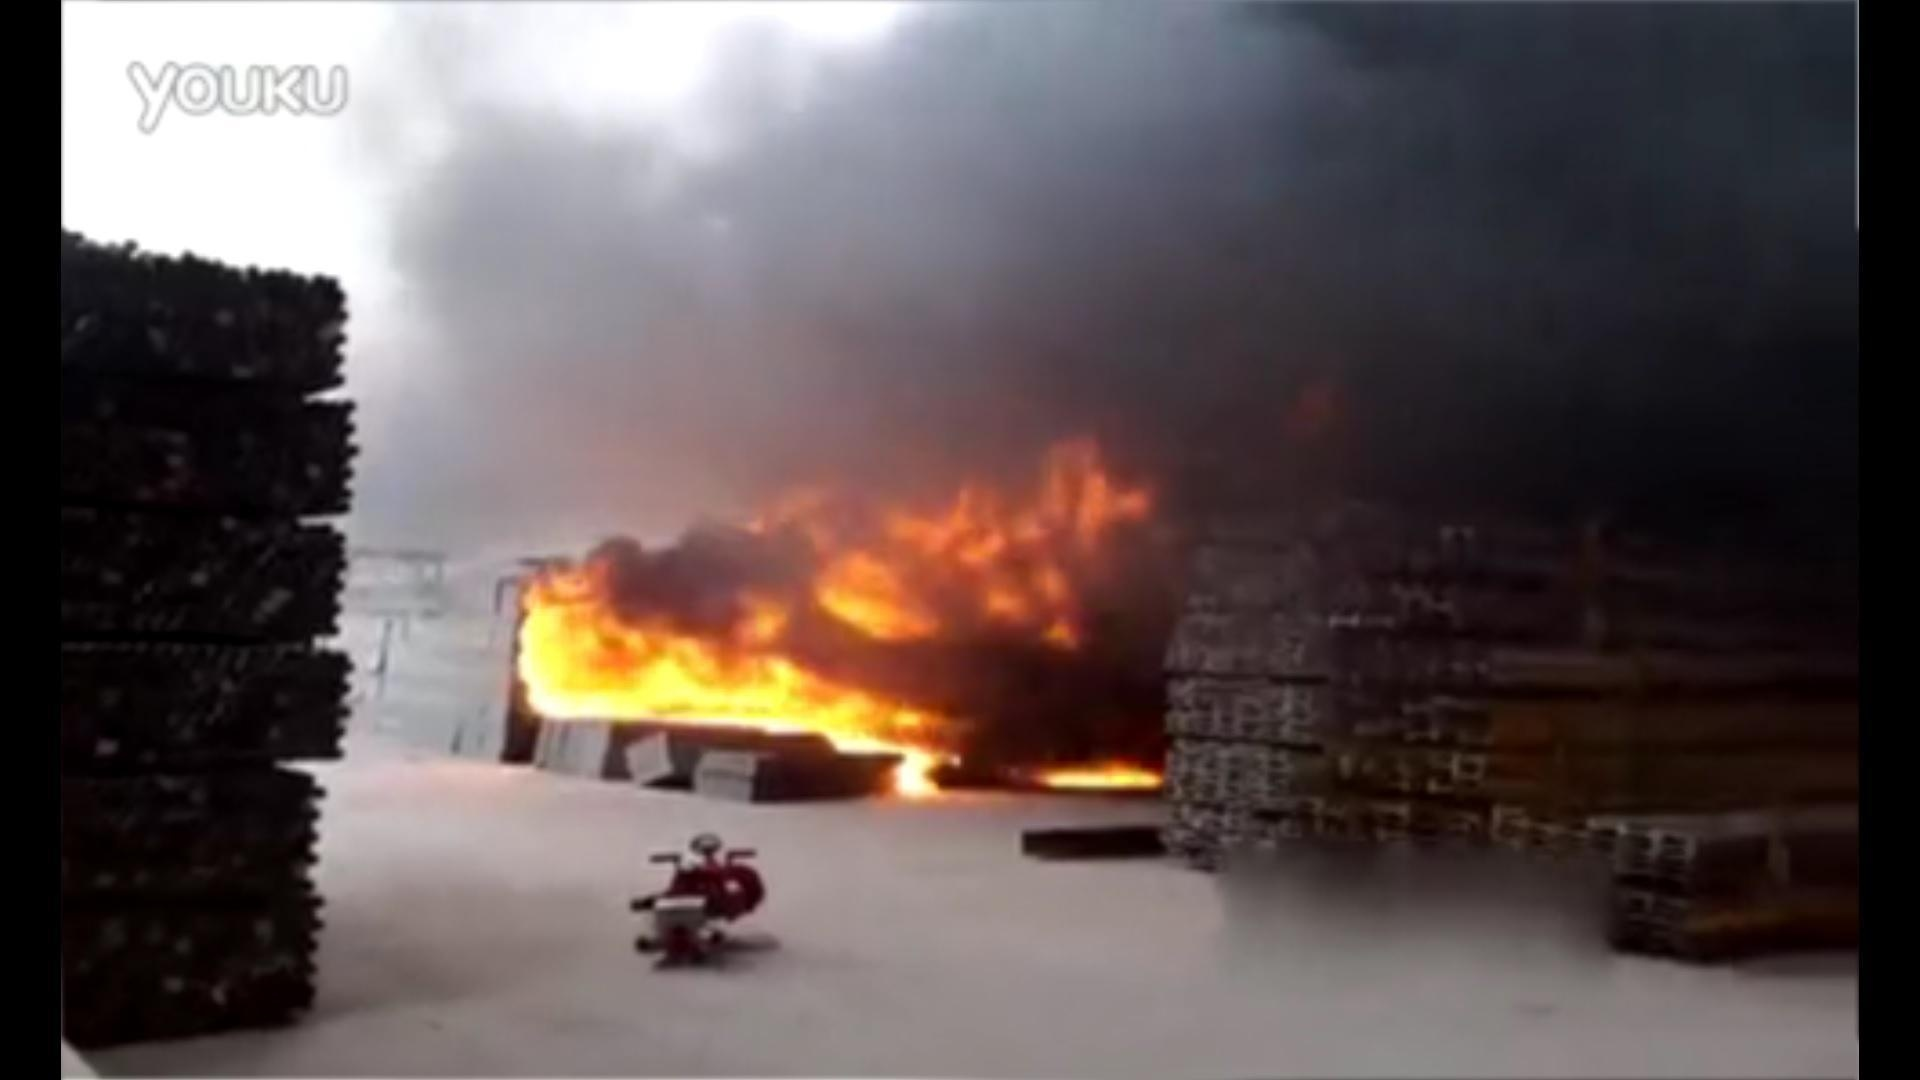fire: (495, 462, 1172, 807)
